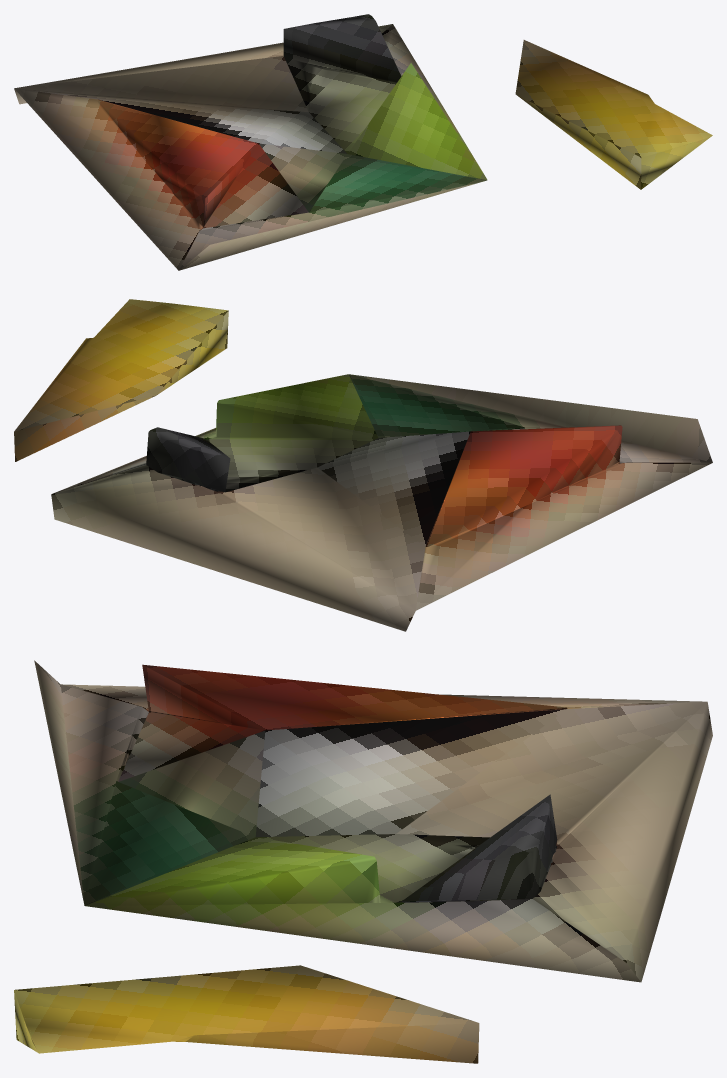
Rendered from TWISTED_PUZZLE_twb4AyFtu8Q-low.glb.
The picture shows the model from 3 angles, top to bottom: view 1: azimuth 30°, elevation 25°; view 2: azimuth 150°, elevation 25°; view 3: azimuth 270°, elevation 25°; orthographic projection. The views are drawn at different scales.
Visible parts, largest first — view 1: TWISTED_PUZZLE_twb4AyFtu8Q; view 2: TWISTED_PUZZLE_twb4AyFtu8Q; view 3: TWISTED_PUZZLE_twb4AyFtu8Q.
Part boxes in pixels (x1=…): TWISTED_PUZZLE_twb4AyFtu8Q: x1=14, y1=14, x2=712, y2=270; TWISTED_PUZZLE_twb4AyFtu8Q: x1=14, y1=299, x2=712, y2=631; TWISTED_PUZZLE_twb4AyFtu8Q: x1=14, y1=660, x2=712, y2=1063.
Size of the model in its own units: 0.2486 by 0.0339 by 0.1896.
1 material, 1 textured.
